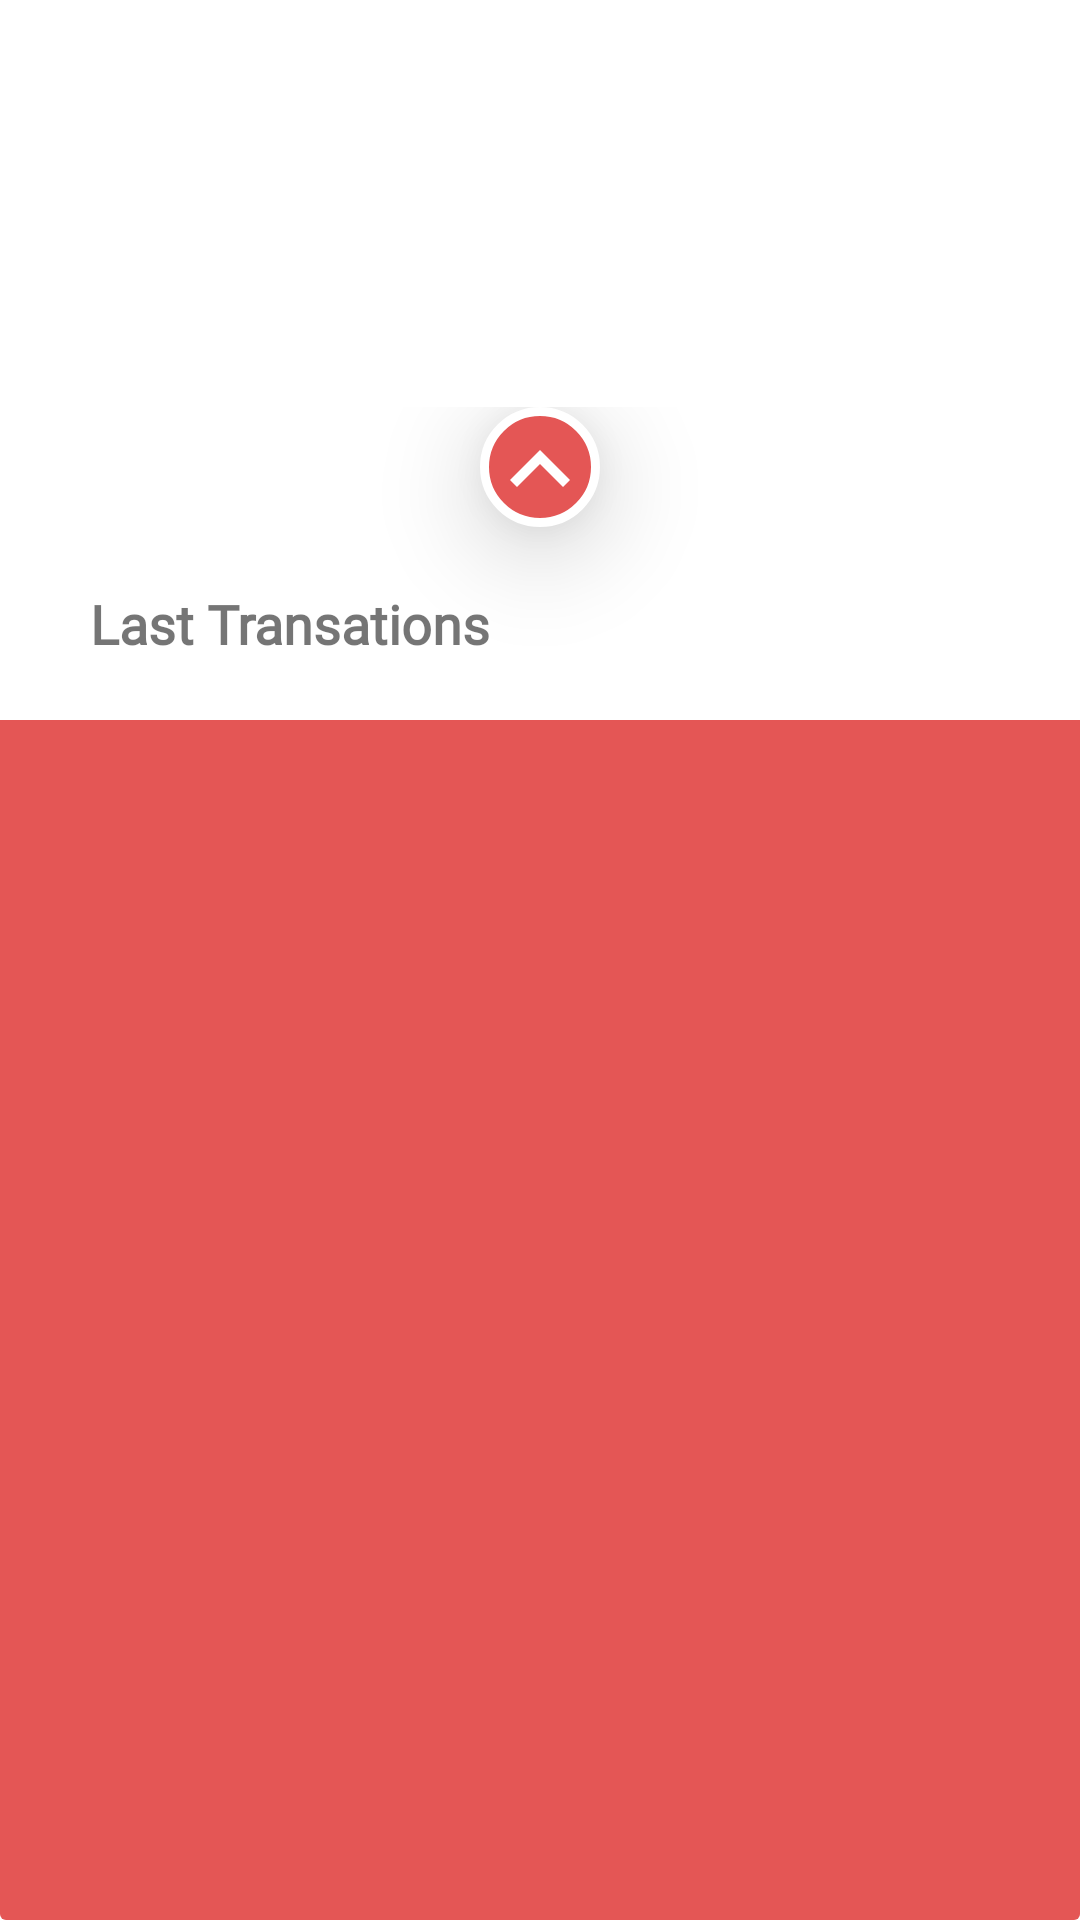

Named icons in this screenshot (1080 × 1920) and their bounding boxes, (x1=x1, y1=y1, x2=x2, y2=y2):
chevron up: (x1=489, y1=416, x2=591, y2=518)
